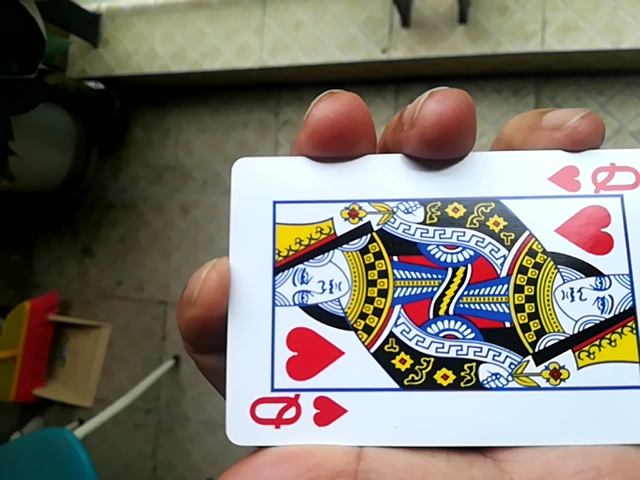hx q: (230, 151, 637, 448)
